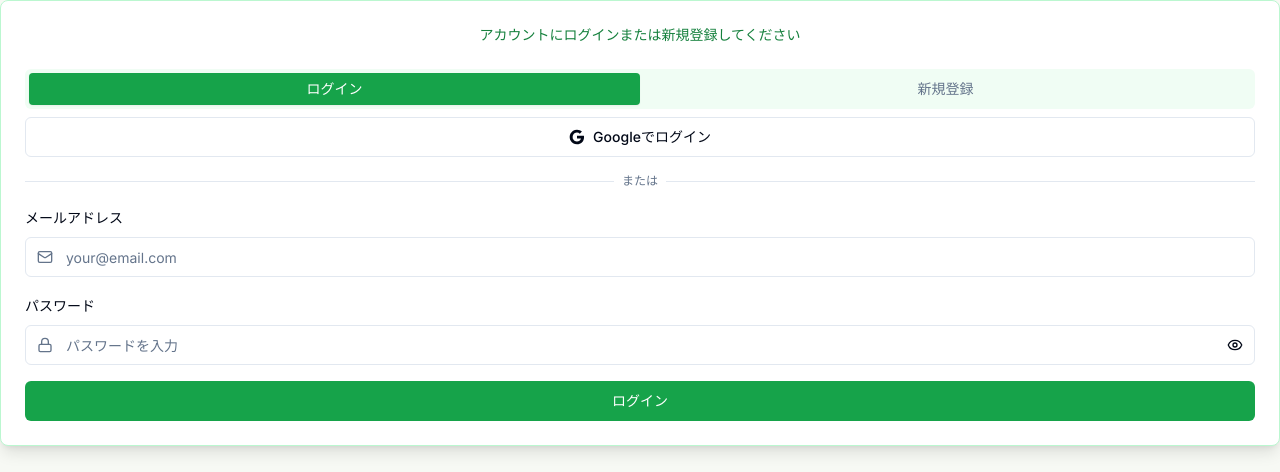
Scenario: 認証タブ詳細テスト › パスワード表示切り替えのテスト › パスワード表示切り替えボタンが正常に動作
Note: パスワードを入力
Type "password123" into the password field labelled "パスワード" at point(640, 345), box [25,325,1255,365]
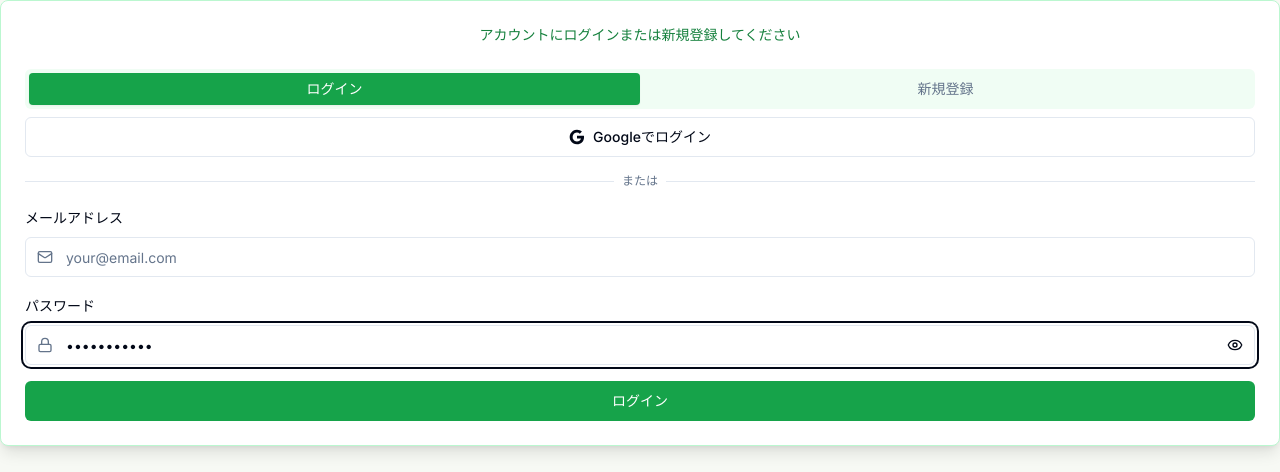
Note: 表示切り替えボタンをクリック
Click the 2nd button at point(1235, 345), box [1215,325,1255,365]
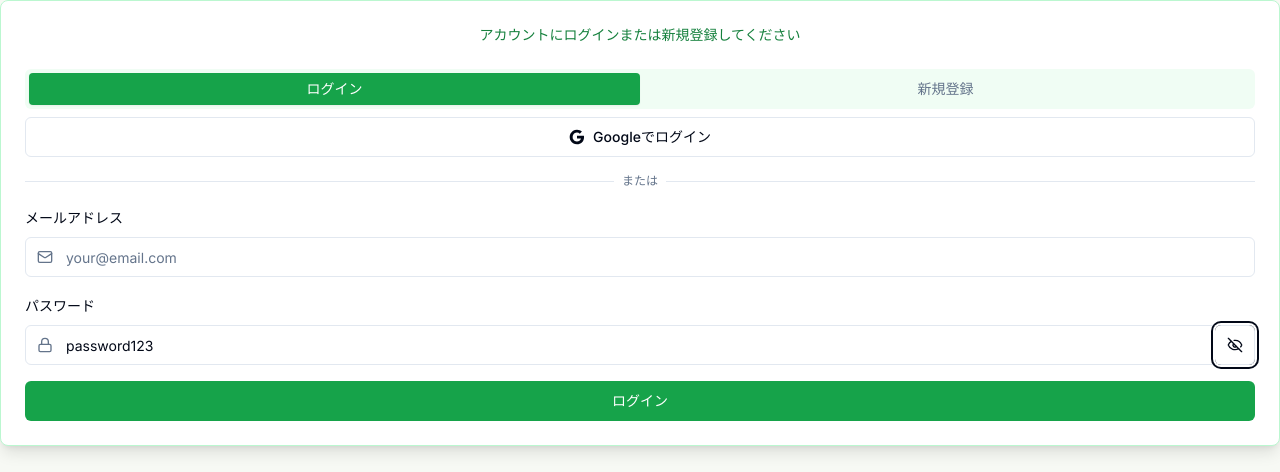
expect the field labelled "パスワード" shows its text: met, box [25,325,1255,365]
Note: 再度クリックして隠す
Click the 2nd button at point(1235, 345), box [1215,325,1255,365]
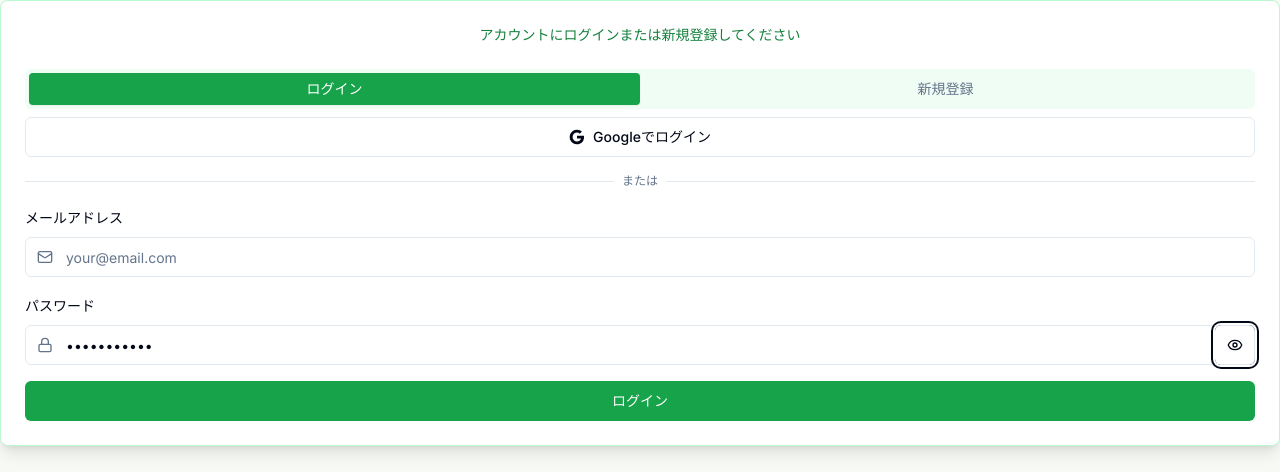
expect the password field labelled "パスワード" hides its text: met, box [25,325,1255,365]
